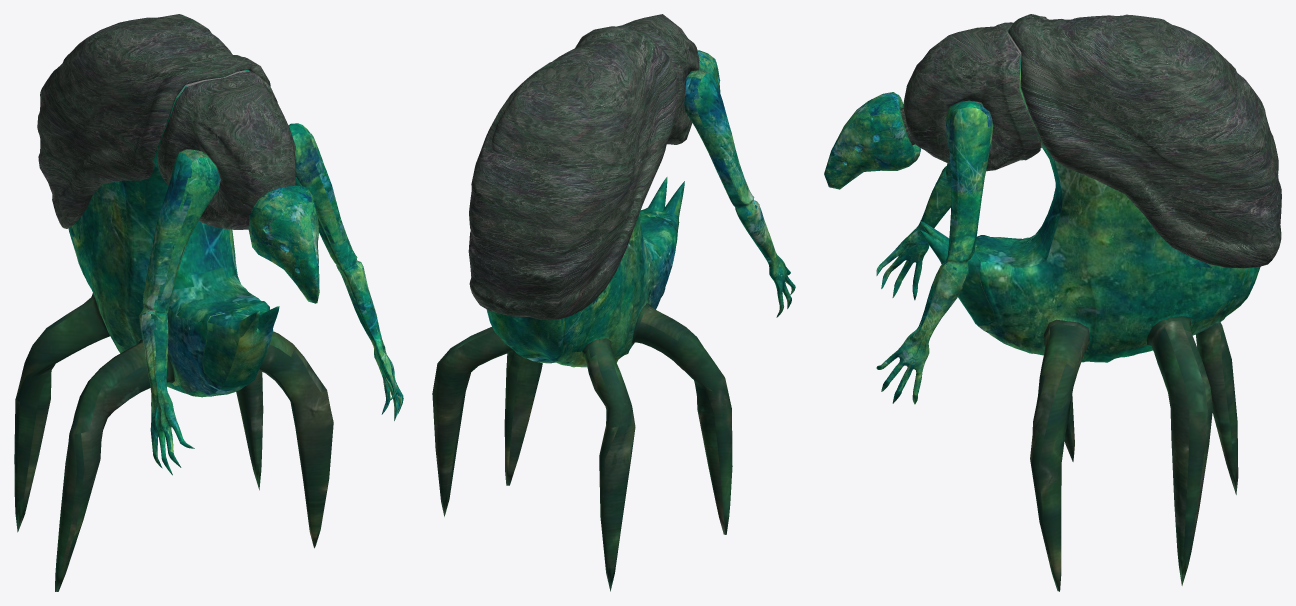
The model's file is Andar.0021.obj.
3 renders of one model, left to right at view 1: azimuth 30°, elevation 25°; view 2: azimuth 150°, elevation 25°; view 3: azimuth 270°, elevation 25°, orthographic. The views are drawn at different scales.
Visible parts, largest first — view 1: pCube14; view 2: pCube14; view 3: pCube14.
Part boxes in pixels (box(x1,y1,x2,y2)): pCube14: box(14, 14, 403, 591); pCube14: box(432, 14, 795, 591); pCube14: box(824, 14, 1281, 591).
Bounding box in the file's own units: 2.08 × 3.94 × 3.18.
Materials: 5 (4 with a texture image).
